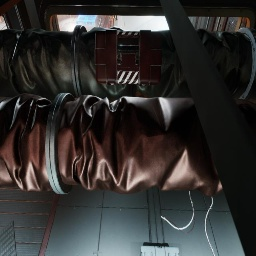FirstAidBox ,: (95, 29, 162, 86)
